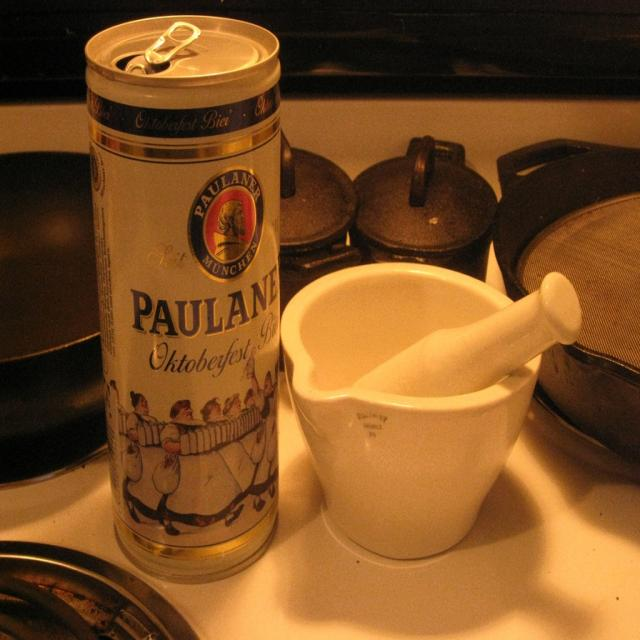paulaner: (188, 166, 267, 283)
